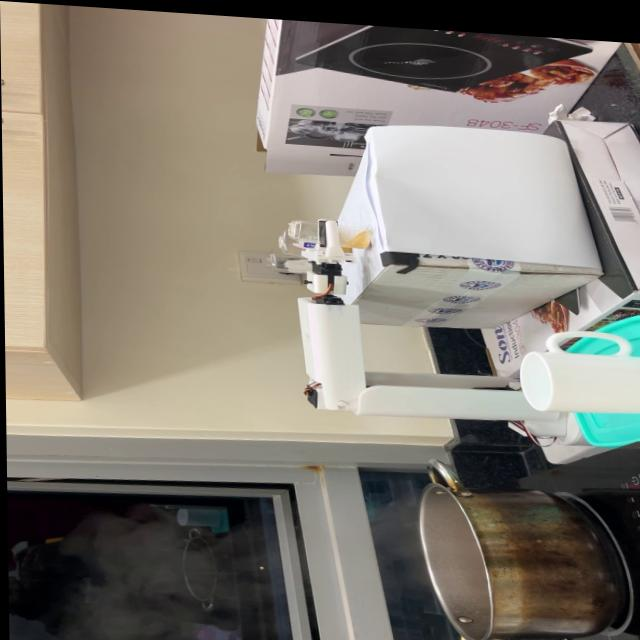cooking_pot: (413, 451, 623, 640)
garlic_powder: (343, 222, 367, 246)
